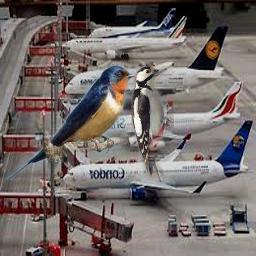Swallow: (5, 65, 135, 180)
Woodpecker: (131, 66, 174, 182)
